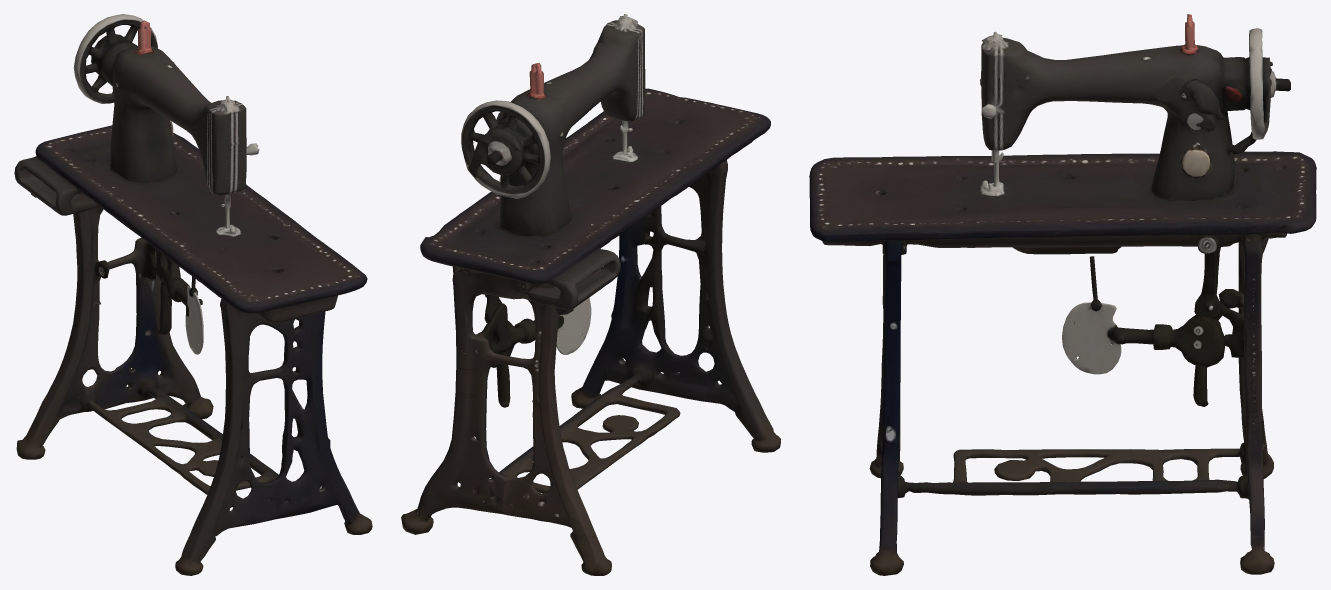
File: sewing-machine.glb
3 views of the same model, side by side, from view 1: azimuth 30°, elevation 25°; view 2: azimuth 150°, elevation 25°; view 3: azimuth 270°, elevation 25° (orthographic). The views are drawn at different scales.
Visible parts, largest first — view 1: tripo_node_0e426ddb-1de6-4bcd-84ca-15df3d434353; view 2: tripo_node_0e426ddb-1de6-4bcd-84ca-15df3d434353; view 3: tripo_node_0e426ddb-1de6-4bcd-84ca-15df3d434353.
Part boxes in pixels (bbox=[...]): tripo_node_0e426ddb-1de6-4bcd-84ca-15df3d434353: bbox=[14, 14, 372, 575]; tripo_node_0e426ddb-1de6-4bcd-84ca-15df3d434353: bbox=[401, 14, 780, 575]; tripo_node_0e426ddb-1de6-4bcd-84ca-15df3d434353: bbox=[809, 14, 1316, 575].
Bounding box in the file's own units: 0.4624 × 1 × 0.9023.
1 material, 1 textured.
